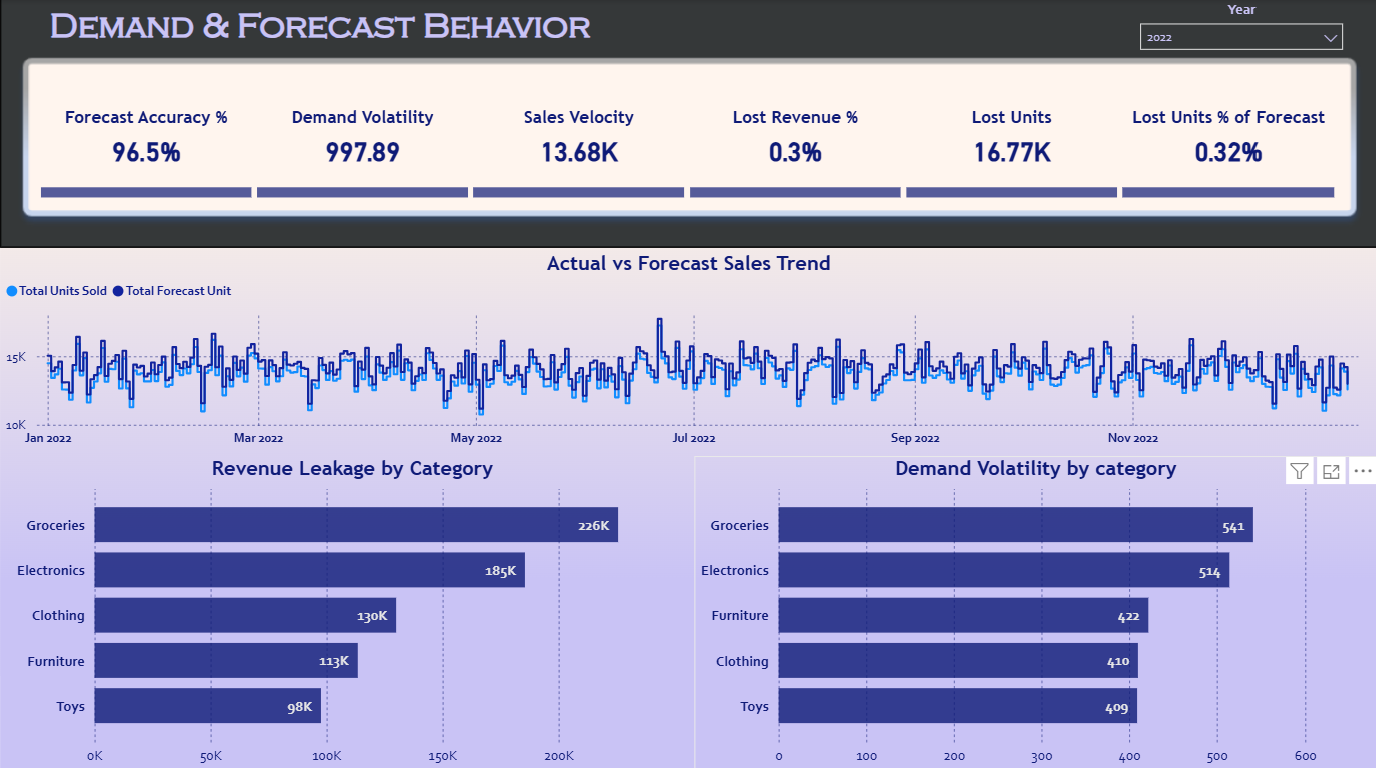

Layout of this report page (visuals, bound fields, positions):
{"tool":"powerbi","page":{"name":"Demand & Forecast Behavior","canvas":[1280,720],"ordinal":2},"visuals":[{"type":"cardVisual","fields":{"Data":["_Measure.Forecast Accuracy %","_Measure.Demand Volatility","_Measure.Sales Velocity","_Measure.Lost Revenue %","_Measure.Lost Sales (Pressure)","_Measure.Lost Units %"]},"box":[31.9,63.9,1218.8,126.7],"z":0},{"type":"lineChart","title":"Actual vs Forecast Sales Trend","fields":{"Category":["dim_date.date"],"Y":["_Measure.Total Units Sold","_Measure.Total Forecast Unit"]},"box":[0,232.7,1279.7,190.7],"z":1000},{"type":"barChart","title":"Revenue Leakage by Category","fields":{"Y":["_Measure.Lost Revenue"],"Category":["dim_product.category"]},"box":[9.7,423.3,635.5,296.2],"z":2000},{"type":"barChart","fields":{"Y":["_Measure.Demand Volatility"],"Category":["dim_product.category"]},"box":[645.2,423.3,634.4,296.2],"z":3000},{"type":"slicer","title":"Year","fields":{"Values":["dim_date.year"]},"box":[1049.5,0,207.6,52.2],"z":4000}]}

Visuals, with their boxes in screenshot pixels (x1, y1, x2, y2), scaled from the page's 1280x720 canvas onto the 1376x768 screenshot:
cardVisual - _Measure.Forecast Accuracy % x _Measure.Demand Volatility: 34 68 1345 203
"Actual vs Forecast Sales Trend" lineChart: 0 248 1375 452
"Revenue Leakage by Category" barChart: 10 452 694 767
barChart - _Measure.Demand Volatility x dim_product.category: 694 452 1375 767
"Year" slicer: 1128 0 1351 56
